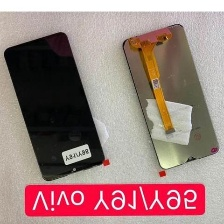phone: (0, 29, 109, 184), (117, 21, 221, 173)
